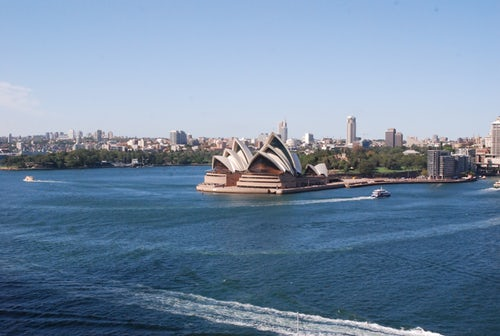opera house: (179, 119, 376, 203)
